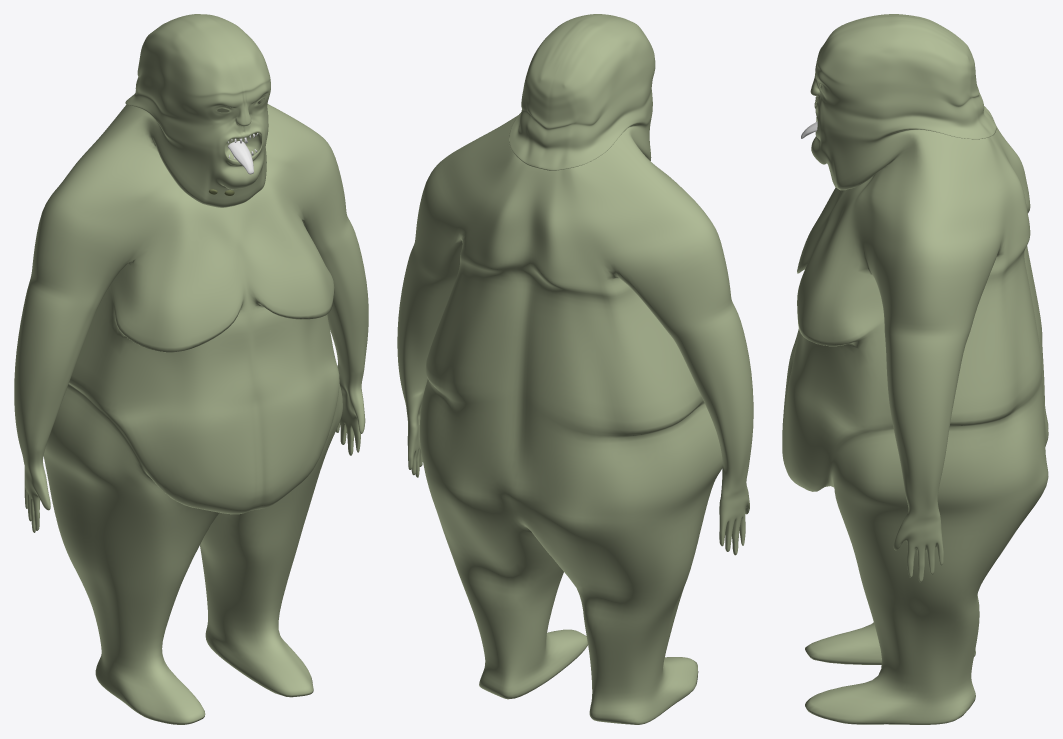
File: Fatzombie After mirror.fbx
The picture shows the model from 3 angles, left to right: view 1: azimuth 30°, elevation 25°; view 2: azimuth 150°, elevation 25°; view 3: azimuth 270°, elevation 25°; orthographic projection.
Parts seen in each view (by area): view 1: Cube, Cube.003; view 2: Cube; view 3: Cube.
Part boxes in pixels (box(x1,y1,x2,y2)): Cube: box(14, 14, 368, 724); Cube.003: box(228, 133, 258, 174); Cube: box(397, 14, 753, 724); Cube: box(782, 14, 1048, 724).
Bounding box in the file's own units: 0.9648 × 1.76 × 0.638.
